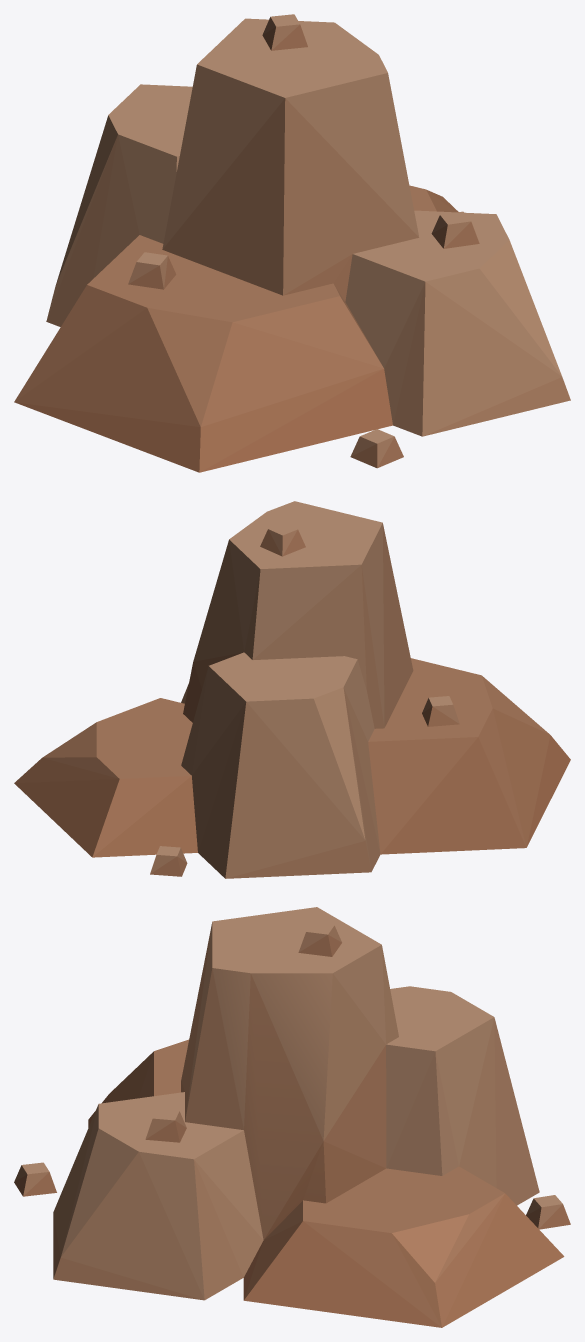
Rendered from survival_rock_sand_b.glb.
3 renders of one model, top to bottom at view 1: azimuth 30°, elevation 25°; view 2: azimuth 150°, elevation 25°; view 3: azimuth 270°, elevation 25°, orthographic. The views are drawn at different scales.
Parts seen in each view (by area): view 1: survival_rock_sand_b; view 2: survival_rock_sand_b; view 3: survival_rock_sand_b.
Part boxes in pixels (<box>): survival_rock_sand_b: <box>14,14,570,472</box>; survival_rock_sand_b: <box>14,501,570,878</box>; survival_rock_sand_b: <box>14,907,570,1327</box>.
Bounding box in the file's own units: 0.7991 × 0.4486 × 0.7895.
